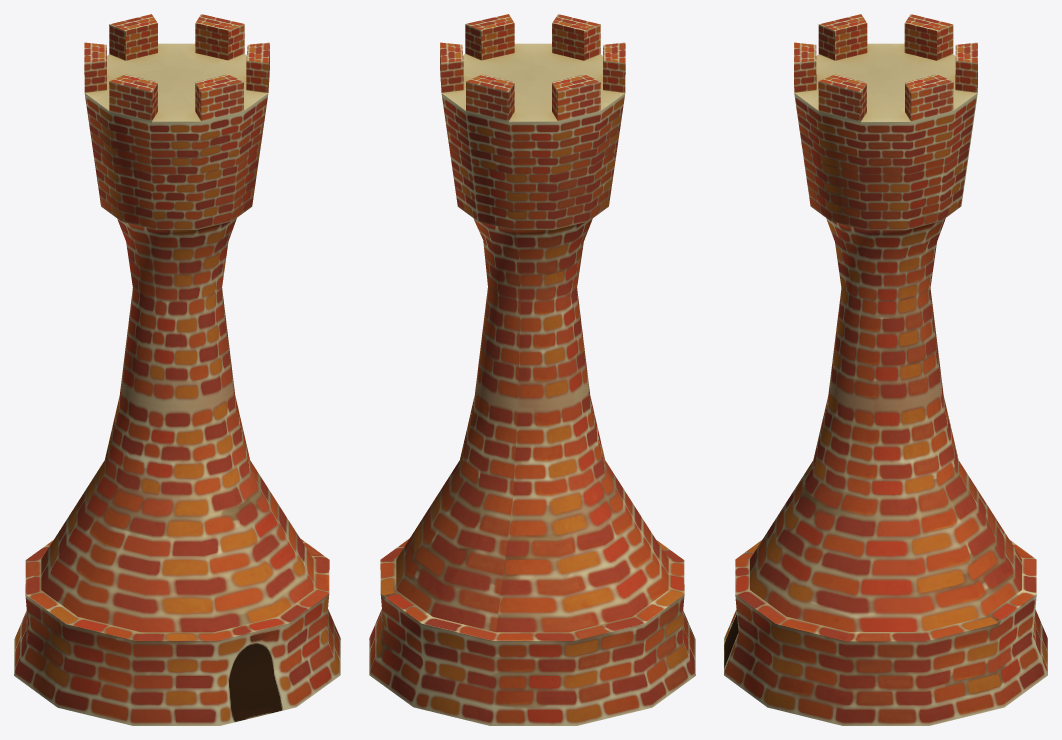
Rendered from Tower1.fbx.
The picture shows the model from 3 angles, left to right: view 1: azimuth 30°, elevation 25°; view 2: azimuth 150°, elevation 25°; view 3: azimuth 270°, elevation 25°; orthographic projection.
Parts seen in each view (by area): view 1: tawa_; view 2: tawa_; view 3: tawa_.
Part boxes in pixels (x1,y1,x2,y2): tawa_: [14, 14, 340, 725]; tawa_: [369, 14, 695, 725]; tawa_: [724, 14, 1047, 725].
Bounding box in the file's own units: 175 × 357 × 174.
Materials: 1 (1 with a texture image).
